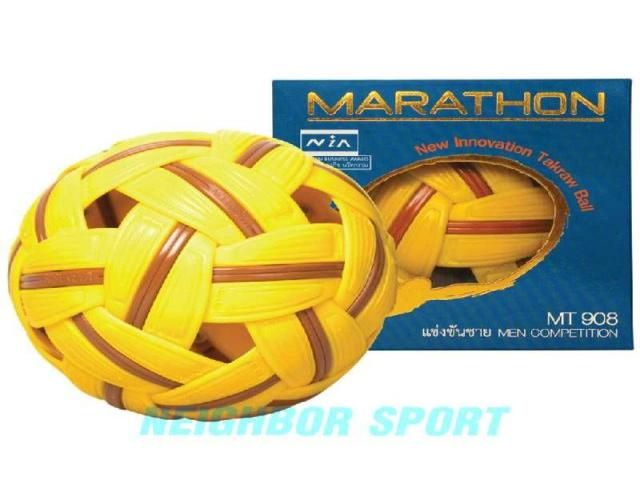round ball: (10, 131, 395, 420), (369, 157, 568, 314)
